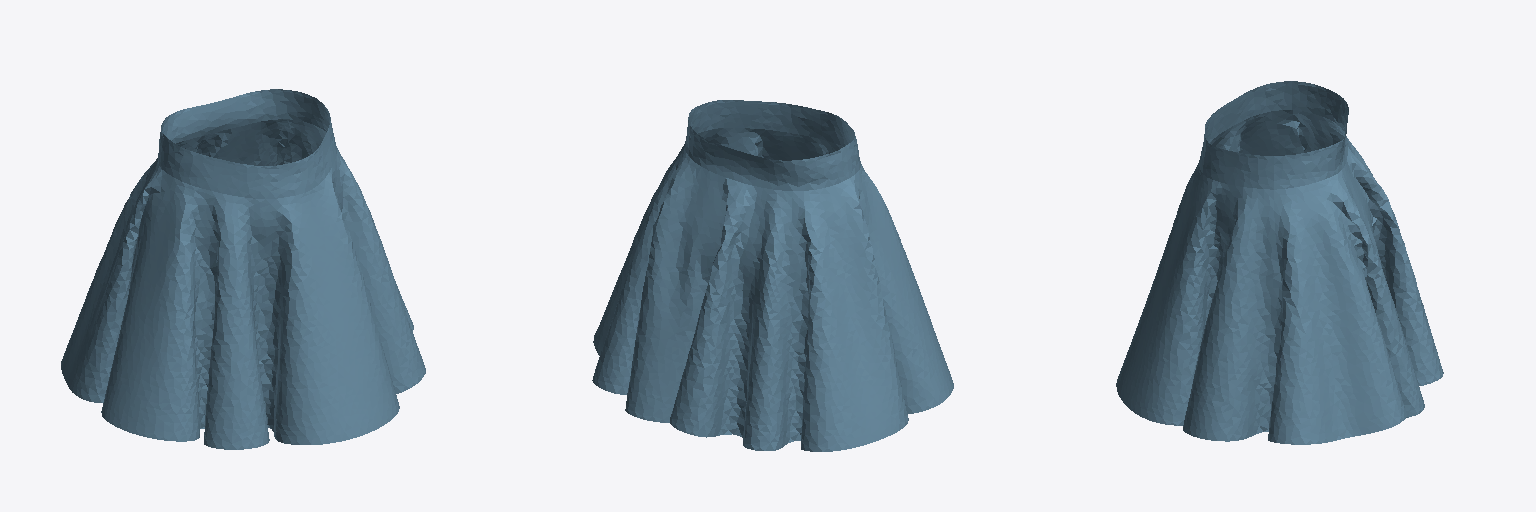
3 renders of one model, left to right at view 1: azimuth 30°, elevation 25°; view 2: azimuth 150°, elevation 25°; view 3: azimuth 270°, elevation 25°, orthographic.
Parts seen in each view (by area): view 1: Root_ClothPiece_Fabric_0_ClothPiece_3, Root_ClothPiece_Fabric_0_ClothPiece_2, Root_ClothPiece_Fabric_0_ClothPiece_1, Root_ClothPiece_Fabric_0_ClothPiece_0; view 2: Root_ClothPiece_Fabric_0_ClothPiece_2, Root_ClothPiece_Fabric_0_ClothPiece_3, Root_ClothPiece_Fabric_0_ClothPiece_0, Root_ClothPiece_Fabric_0_ClothPiece_1; view 3: Root_ClothPiece_Fabric_0_ClothPiece_2, Root_ClothPiece_Fabric_0_ClothPiece_3, Root_ClothPiece_Fabric_0_ClothPiece_1, Root_ClothPiece_Fabric_0_ClothPiece_0.
Part boxes in pixels (left/top/right/bottom): Root_ClothPiece_Fabric_0_ClothPiece_3: left=101, top=146, right=425, bottom=449; Root_ClothPiece_Fabric_0_ClothPiece_2: left=61, top=119, right=413, bottom=402; Root_ClothPiece_Fabric_0_ClothPiece_1: left=162, top=109, right=336, bottom=198; Root_ClothPiece_Fabric_0_ClothPiece_0: left=158, top=89, right=329, bottom=168; Root_ClothPiece_Fabric_0_ClothPiece_2: left=592, top=144, right=908, bottom=451; Root_ClothPiece_Fabric_0_ClothPiece_3: left=698, top=128, right=953, bottom=413; Root_ClothPiece_Fabric_0_ClothPiece_0: left=684, top=104, right=848, bottom=190; Root_ClothPiece_Fabric_0_ClothPiece_1: left=697, top=100, right=860, bottom=177; Root_ClothPiece_Fabric_0_ClothPiece_2: left=1268, top=110, right=1443, bottom=444; Root_ClothPiece_Fabric_0_ClothPiece_3: left=1116, top=110, right=1303, bottom=441; Root_ClothPiece_Fabric_0_ClothPiece_1: left=1199, top=81, right=1291, bottom=189; Root_ClothPiece_Fabric_0_ClothPiece_0: left=1274, top=81, right=1348, bottom=189.
Bounding box in the file's own units: 0.6131 × 0.4917 × 0.5368.
4 materials, 1 textured.